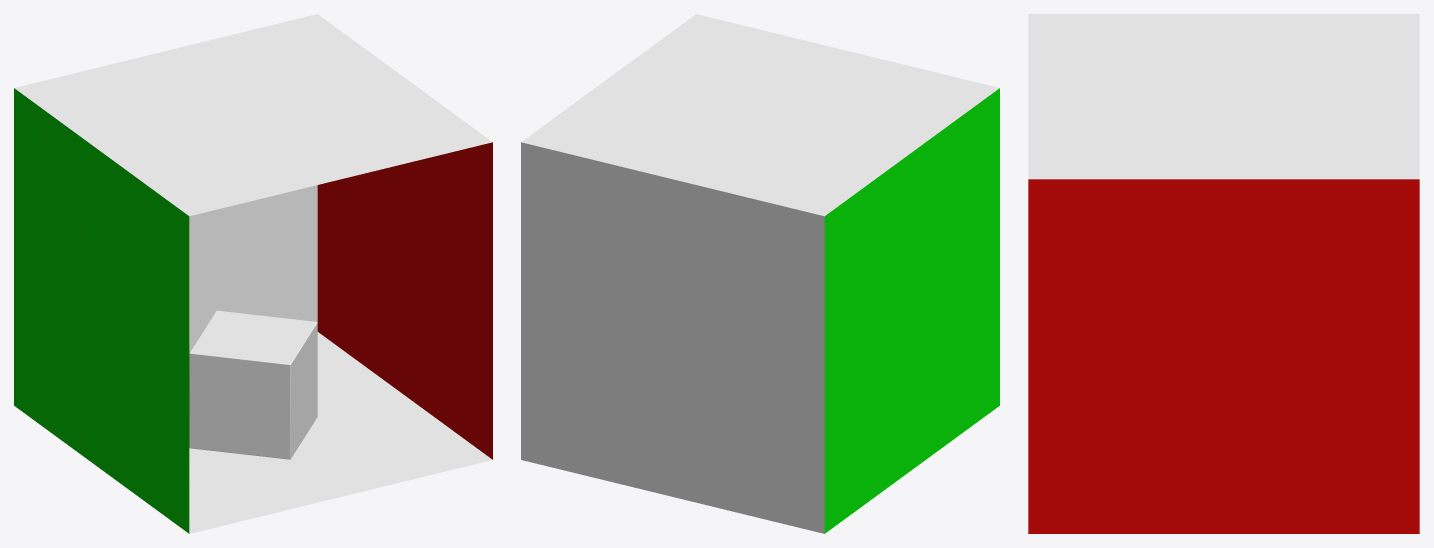
The model's file is glass_cube.obj.
The picture shows the model from 3 angles, left to right: view 1: azimuth 30°, elevation 25°; view 2: azimuth 150°, elevation 25°; view 3: azimuth 270°, elevation 25°; orthographic projection. The views are drawn at different scales.
Parts seen in each view (by area): view 1: Box, Cube; view 2: Box; view 3: Box.
Part boxes in pixels (x1=…): Box: x1=14, y1=14, x2=492, y2=533; Cube: x1=189, y1=310, x2=317, y2=459; Box: x1=521, y1=14, x2=999, y2=533; Box: x1=1028, y1=14, x2=1419, y2=533.
Bounding box in the file's own units: 5 × 5 × 5.
